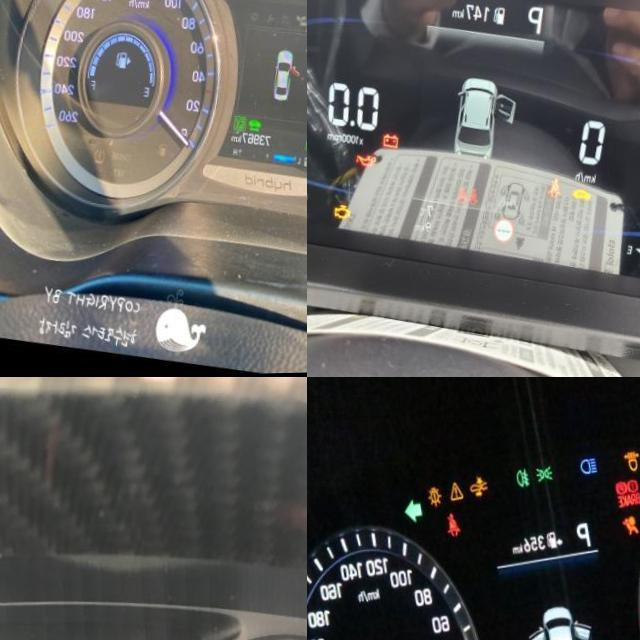Central Warning lamp: (447, 481, 464, 502)
FrontFogLight: (514, 468, 530, 490)
SideLamp: (534, 464, 553, 484)
